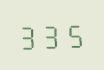five: (63, 19, 84, 48)
three: (18, 21, 39, 50), (41, 20, 62, 49)
